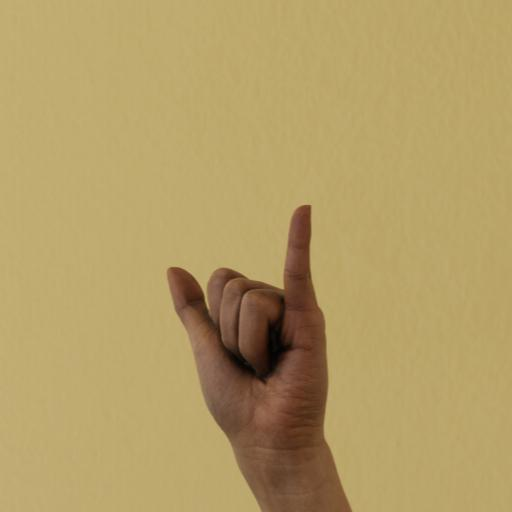Y: (154, 200, 332, 449)
